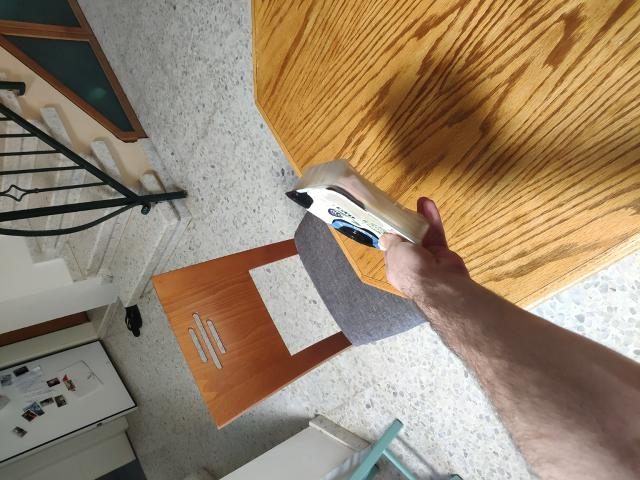cheese: (282, 156, 431, 259)
